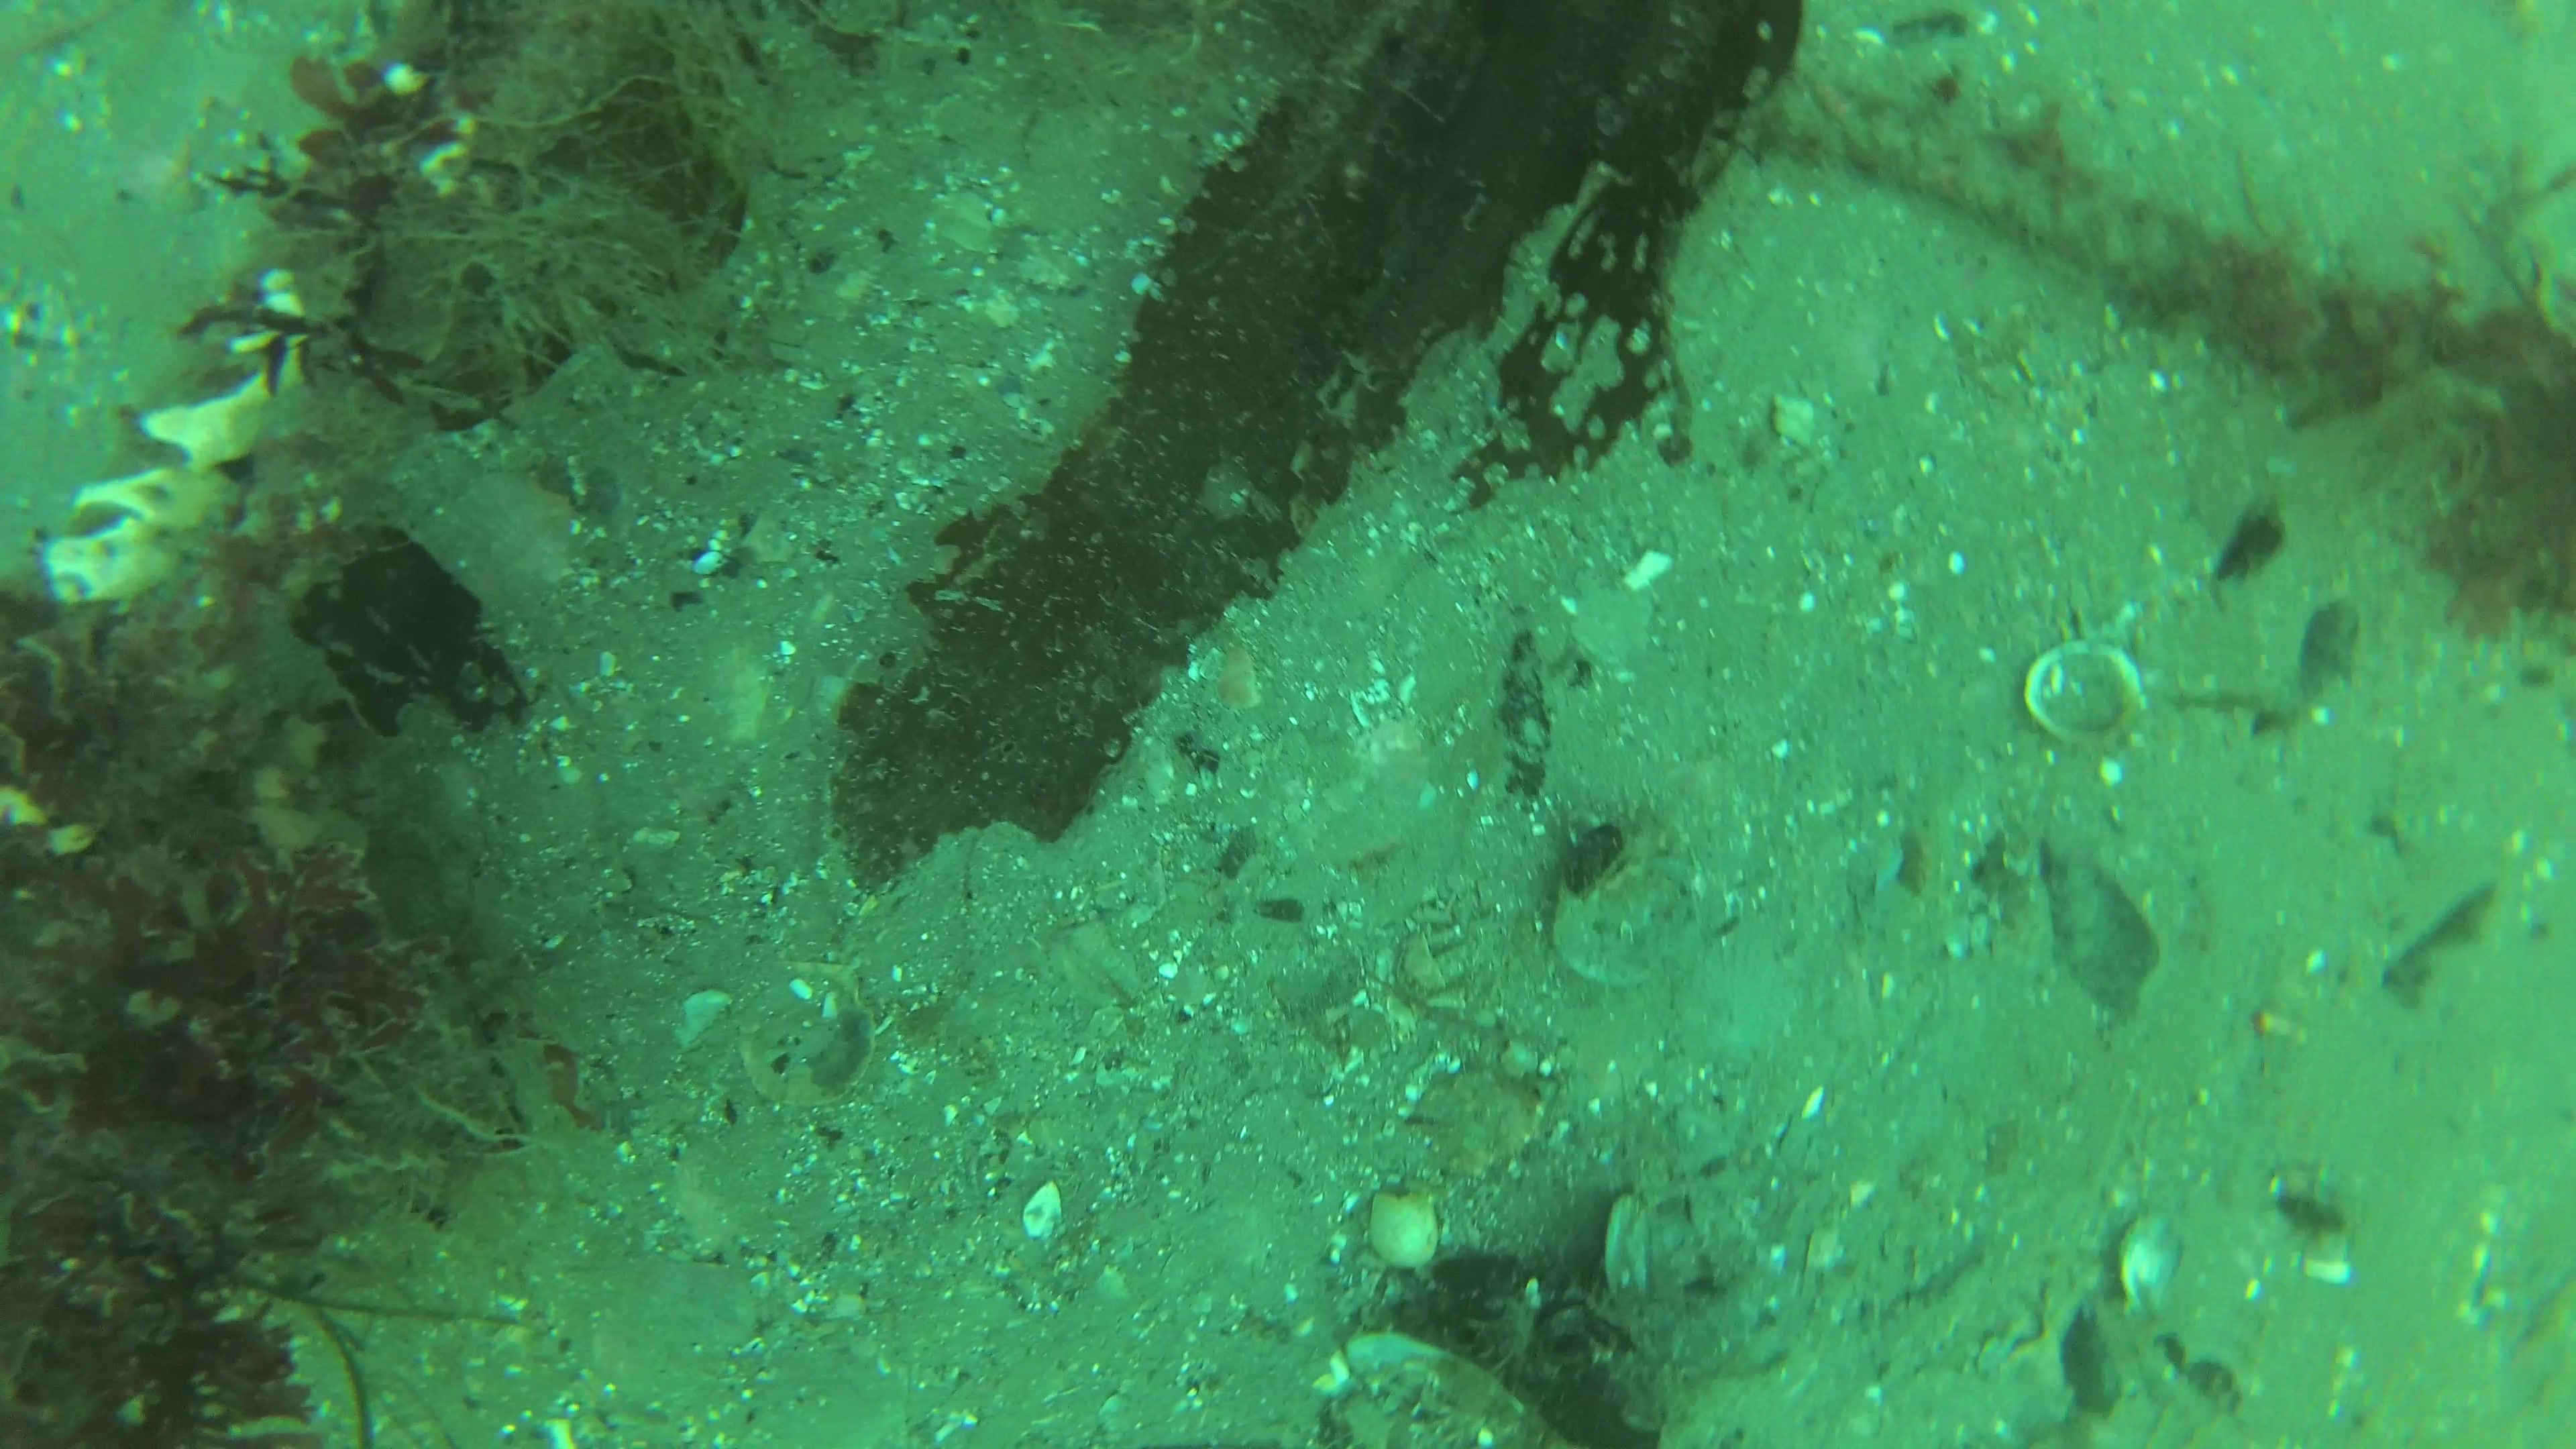scallop: (727, 1014, 893, 1122)
